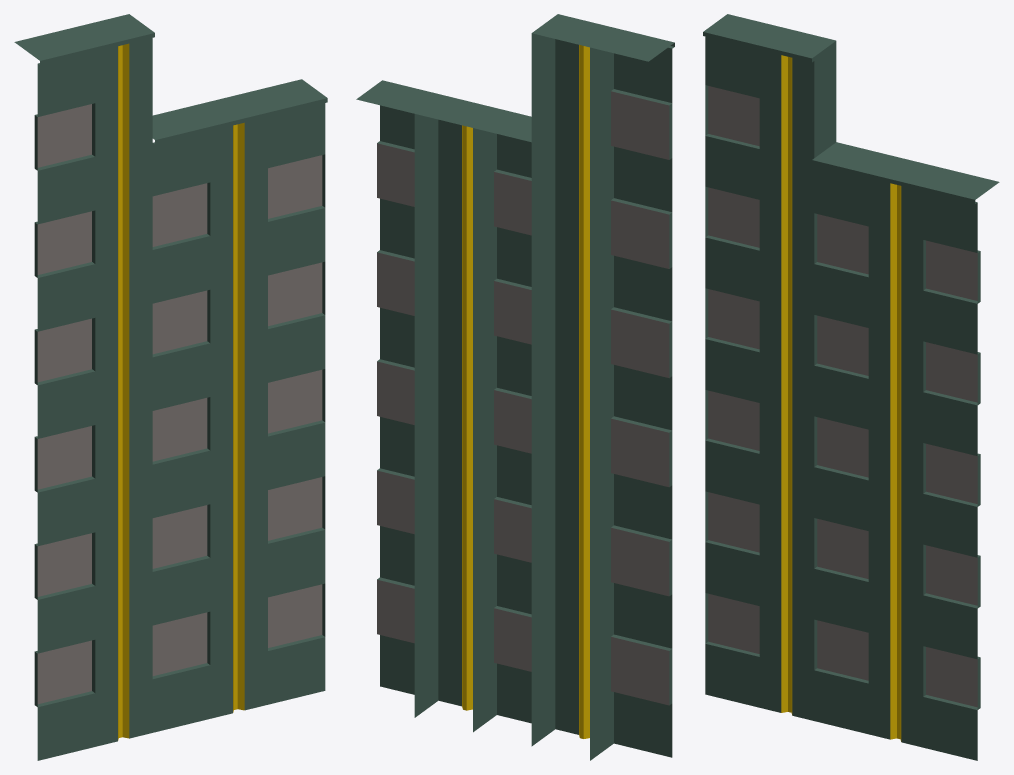
The picture shows the model from 3 angles, left to right: view 1: azimuth 30°, elevation 25°; view 2: azimuth 150°, elevation 25°; view 3: azimuth 330°, elevation 25°; orthographic projection. The views are drawn at different scales.
Parts seen in each view (by area): view 1: Pared.Win.x4.015; view 2: Pared.Win.x4.015; view 3: Pared.Win.x4.015.
Boxes of the visible parts, x1=… form: Pared.Win.x4.015: x1=14, y1=14, x2=327, y2=760; Pared.Win.x4.015: x1=356, y1=14, x2=674, y2=760; Pared.Win.x4.015: x1=703, y1=14, x2=999, y2=760.
Bounding box in the file's own units: 1392 × 3245 × 217.
